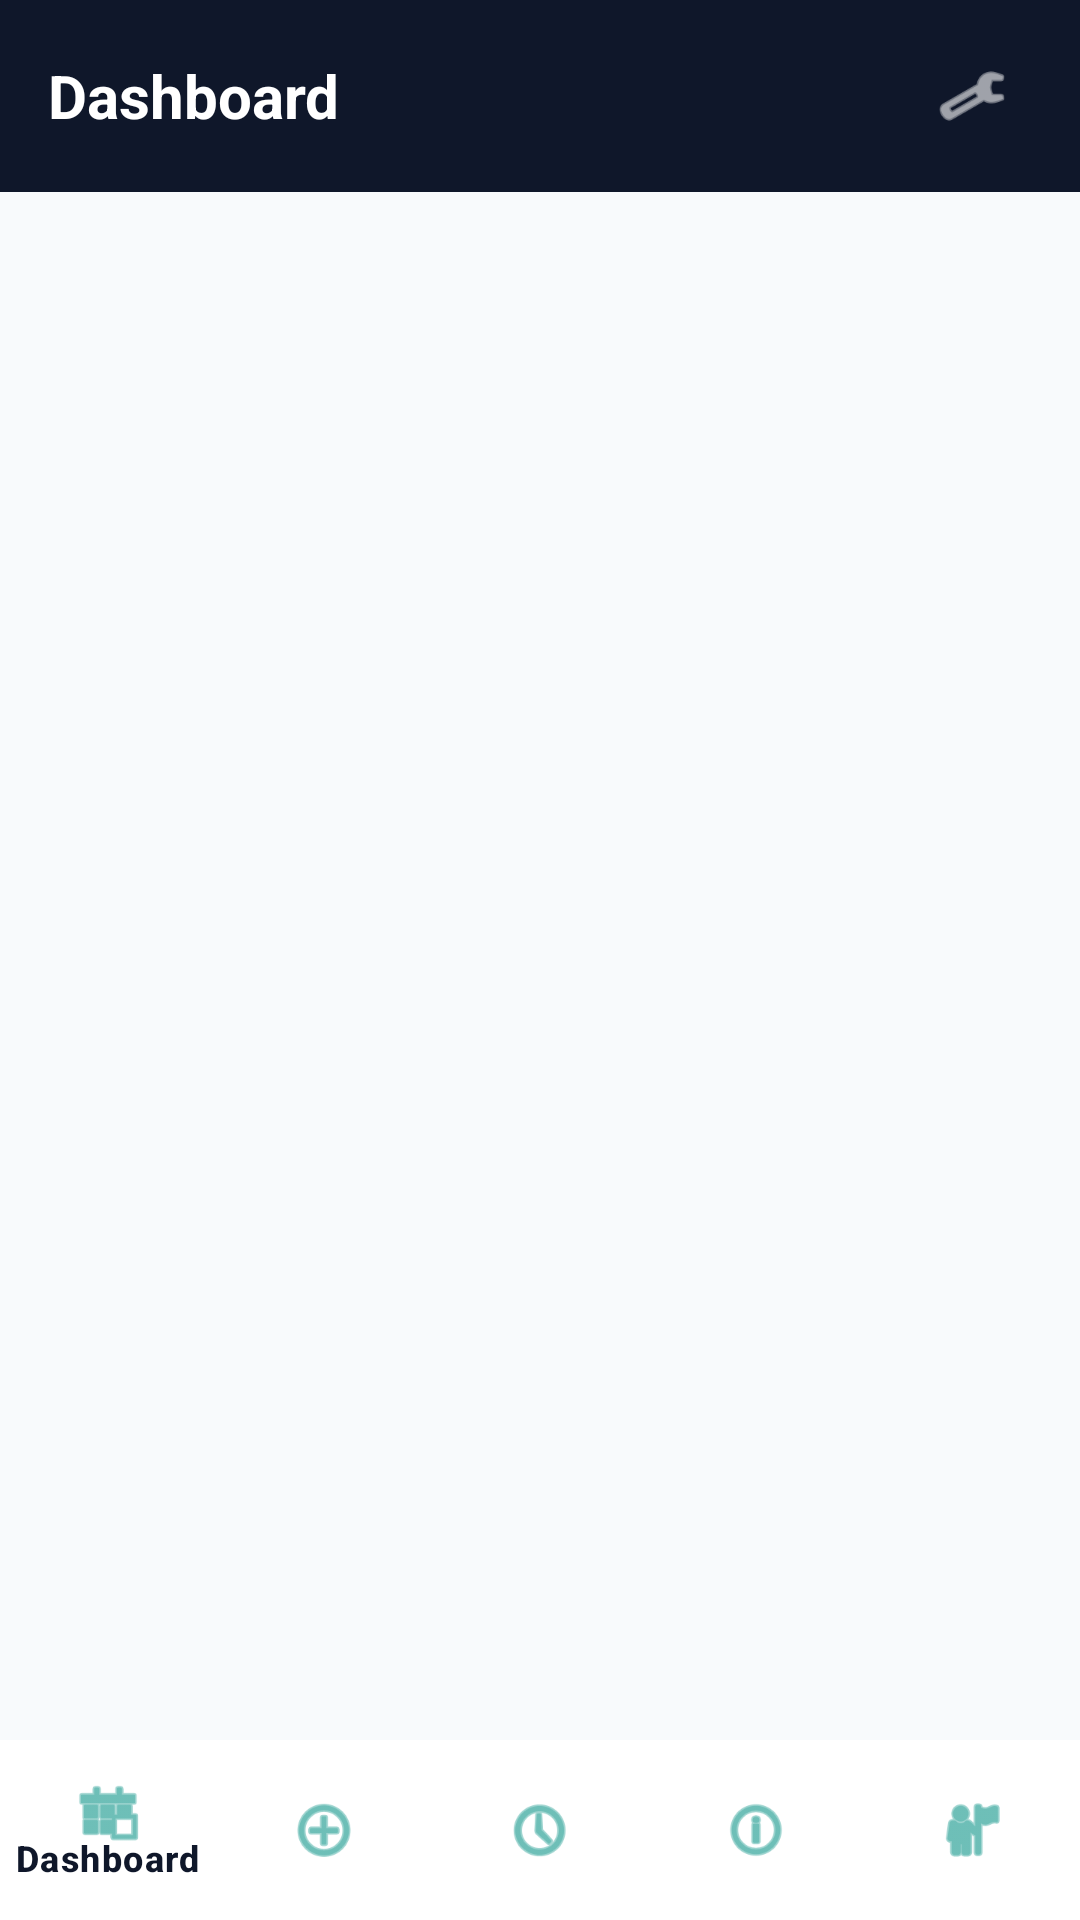

Icon click points for this 1080px x 1920px phone screenshot, format point (x, y):
preferences: point (971, 96)
